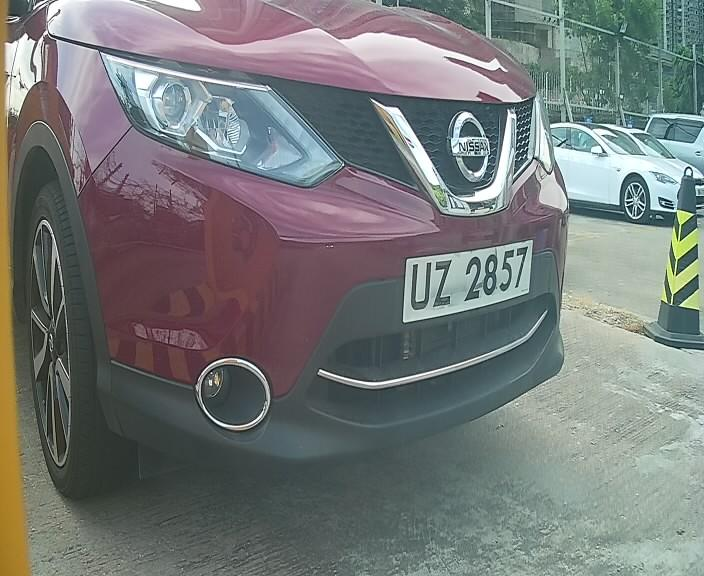Car: (7, 19, 626, 499)
License Plate: (393, 235, 538, 325)
